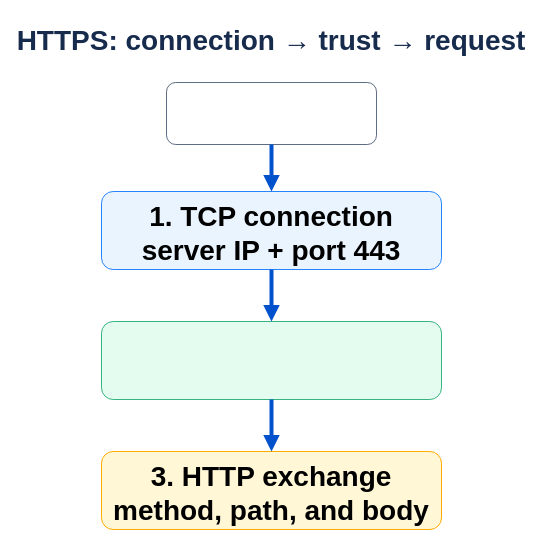
This 542x546 diagram has some shape labels left out. Each missing label, with the centre of its shape:
"2. TLS handshake name, certificate, trust" belongs at (x=271, y=360).
"Client" belongs at (x=271, y=113).
